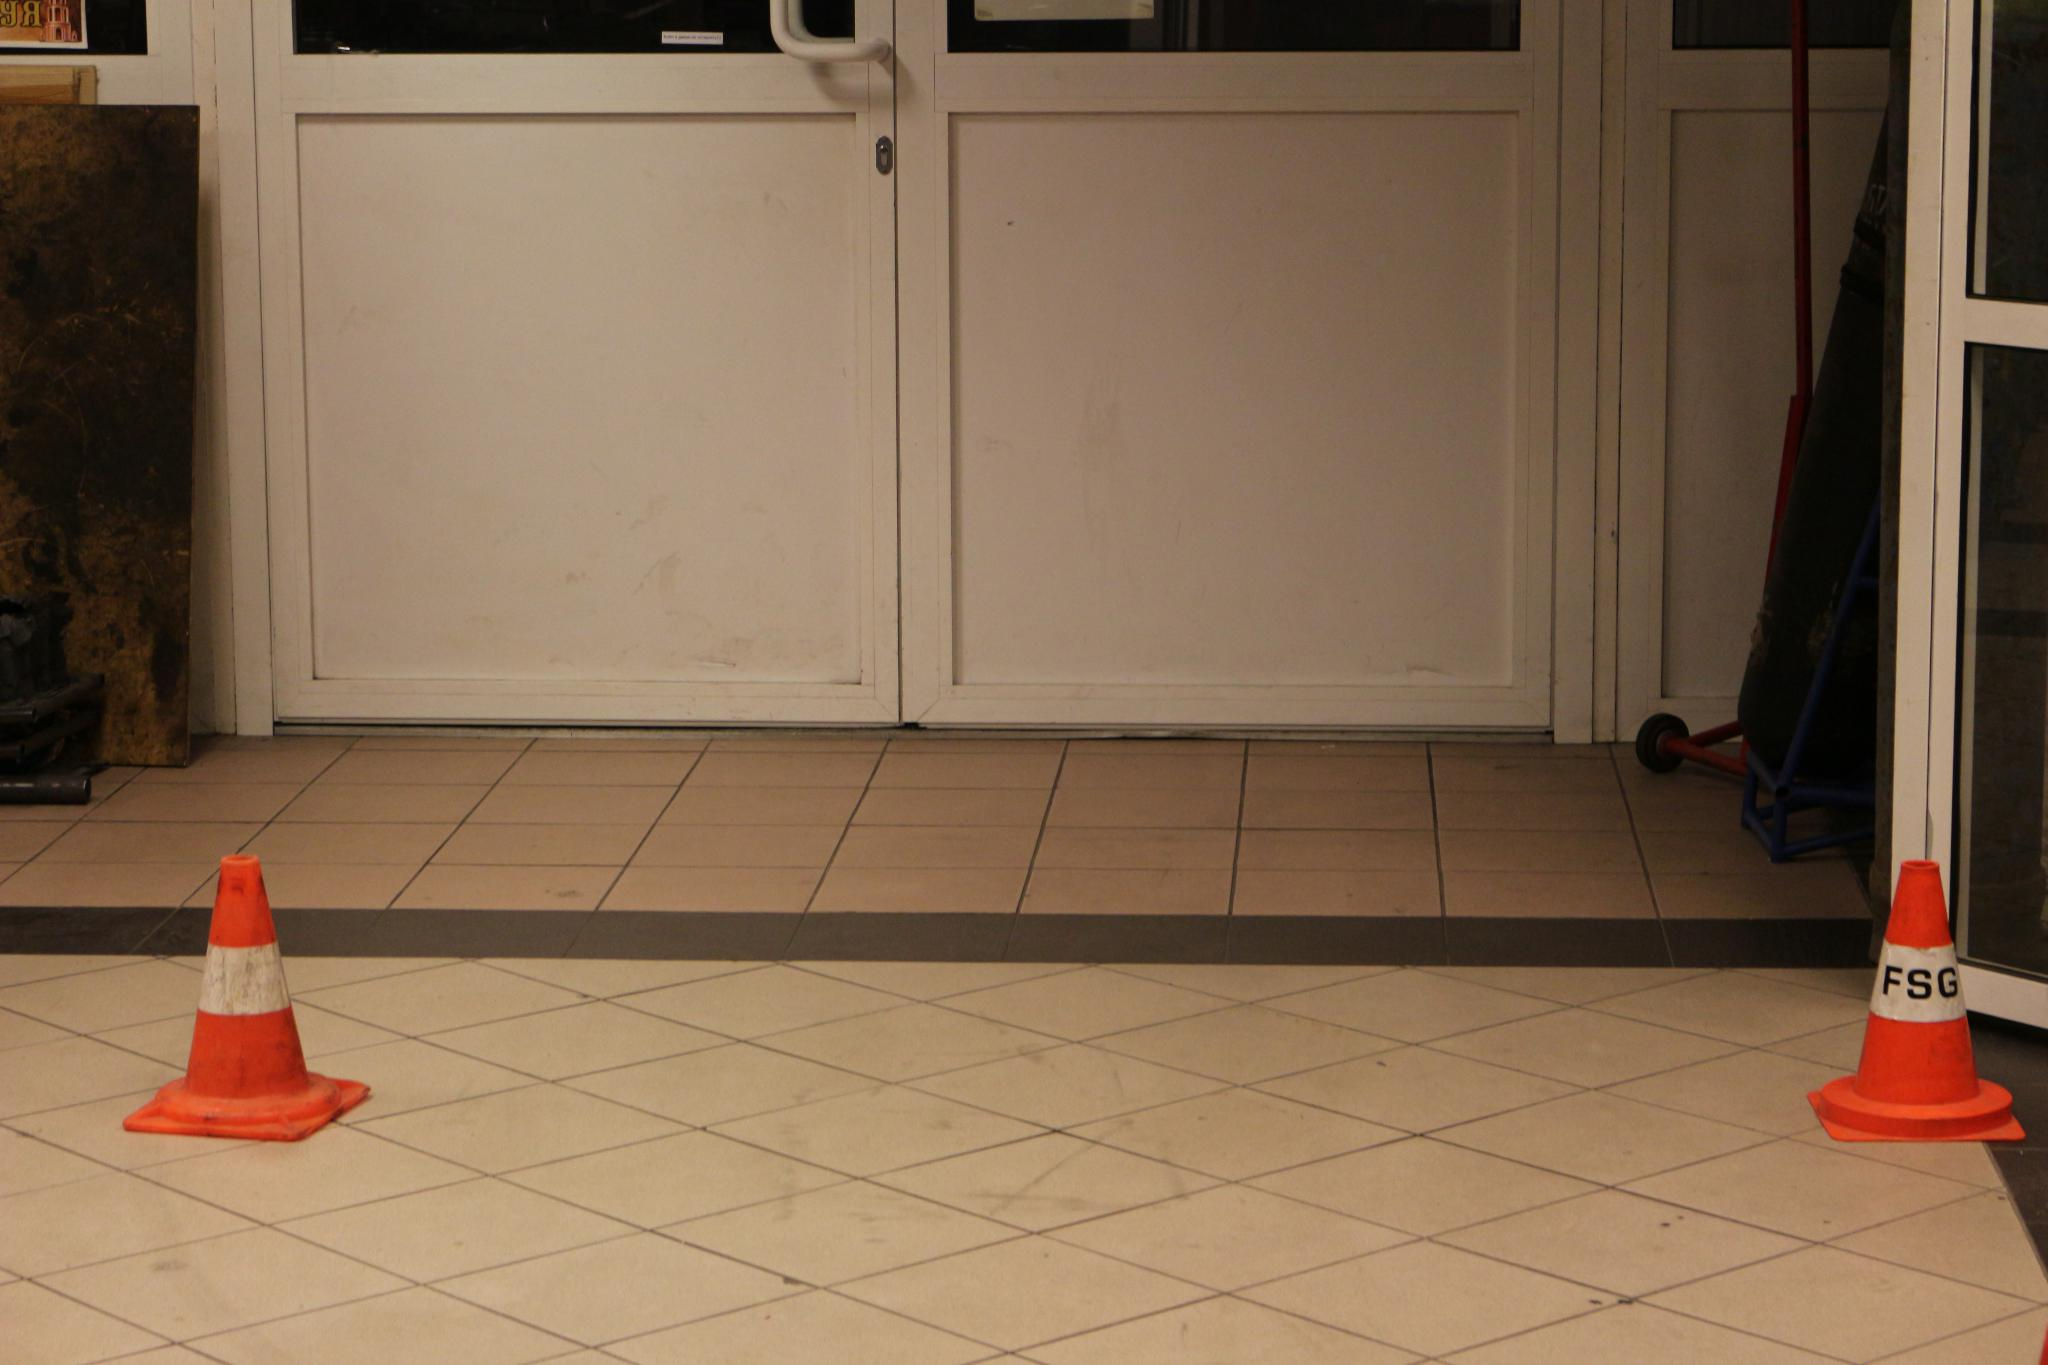Orange_Cone: (111, 844, 372, 1152), (1809, 853, 2027, 1147)
